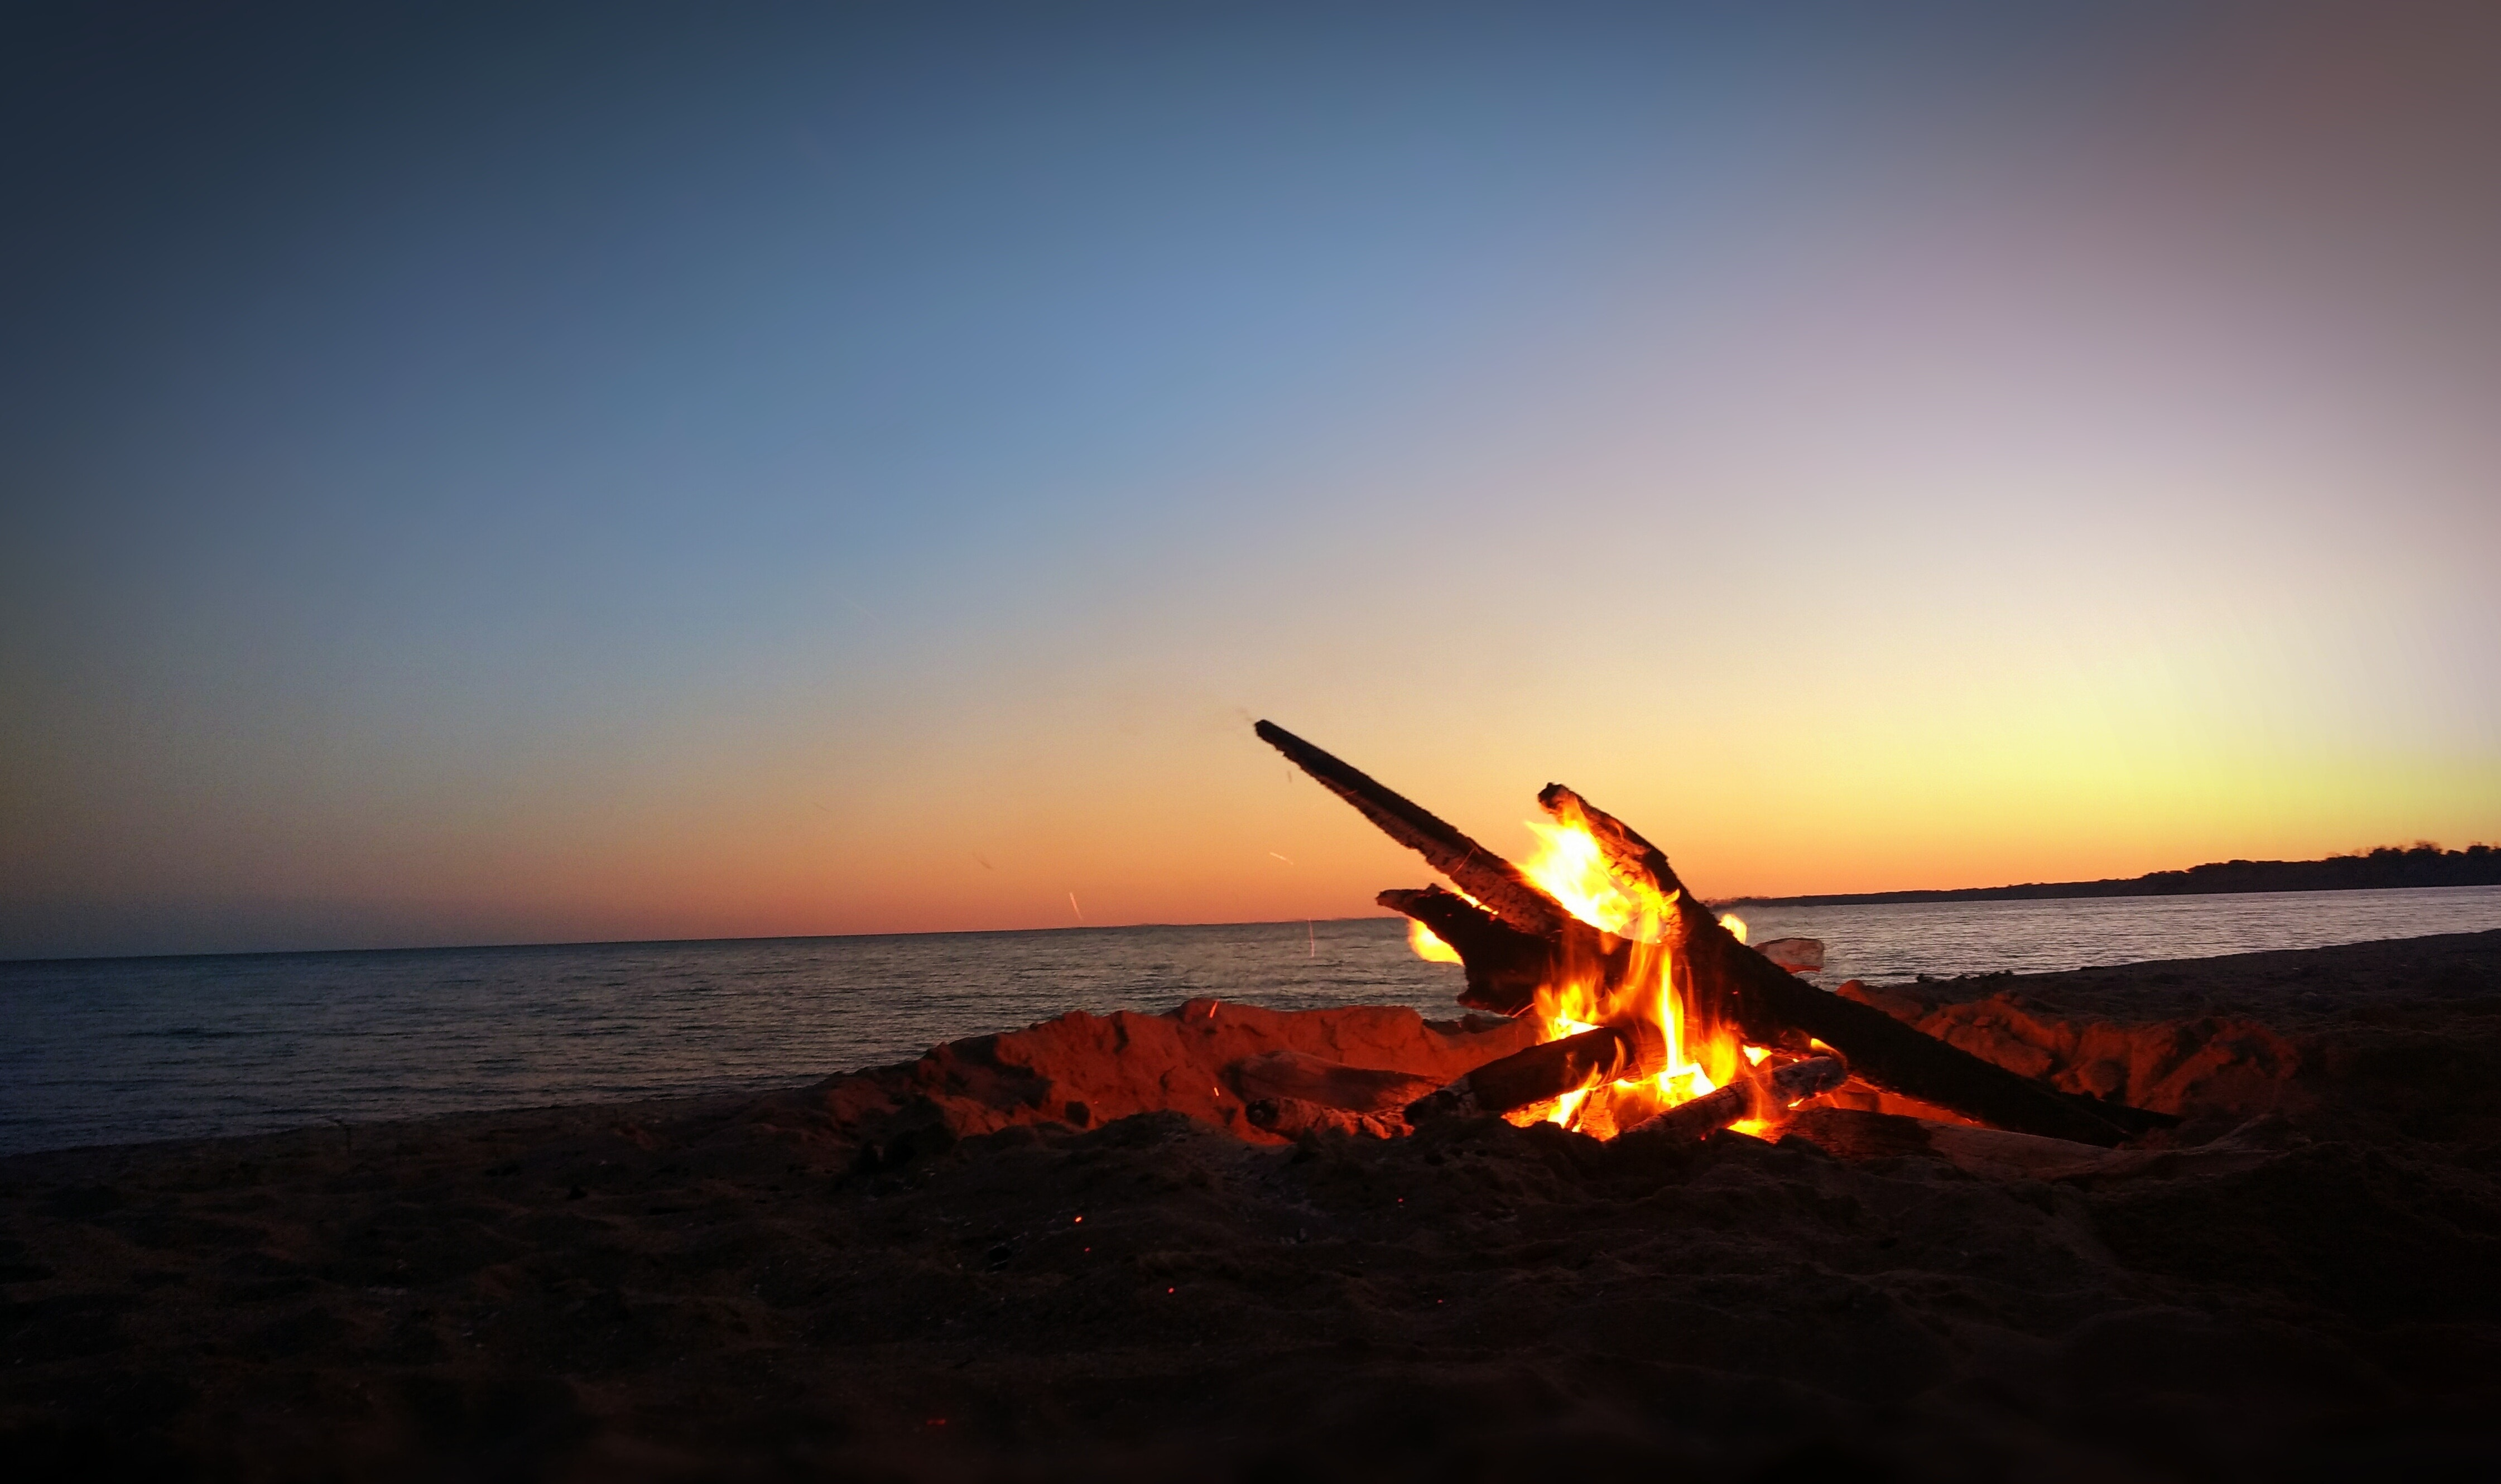fire: (1418, 777, 1823, 1147)
